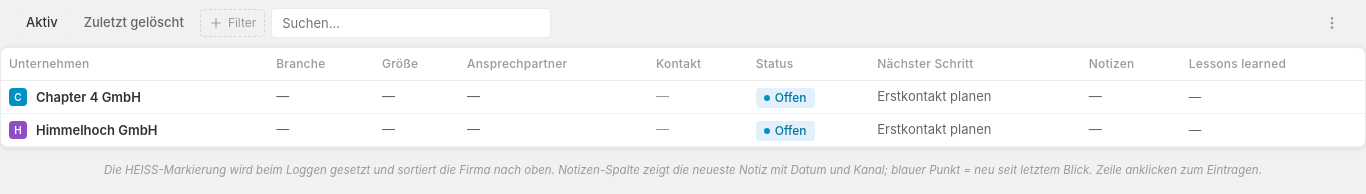
Test: CompanyTable › live search (DB-08, D-10/11) › typing a query filters the rendered rows live (name match)
Expected: the text "Chapter 4 GmbH" is shown, [36, 89, 141, 105]
Type "himmel" into the field with placeholder "Suchen…" at (411, 23), box [271, 8, 551, 38]
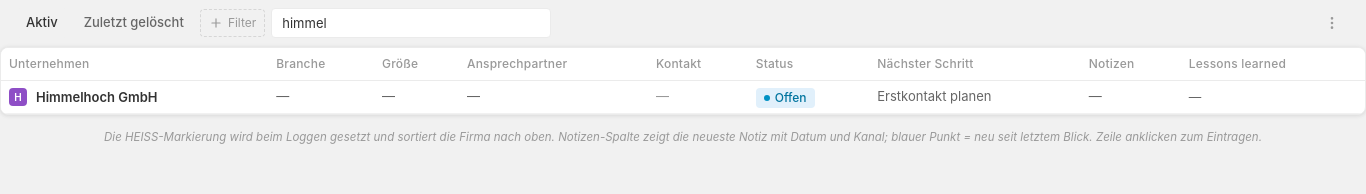
Expected: the text "Himmelhoch GmbH" is shown, [36, 89, 158, 105]
Result: the text "Chapter 4 GmbH" is gone
